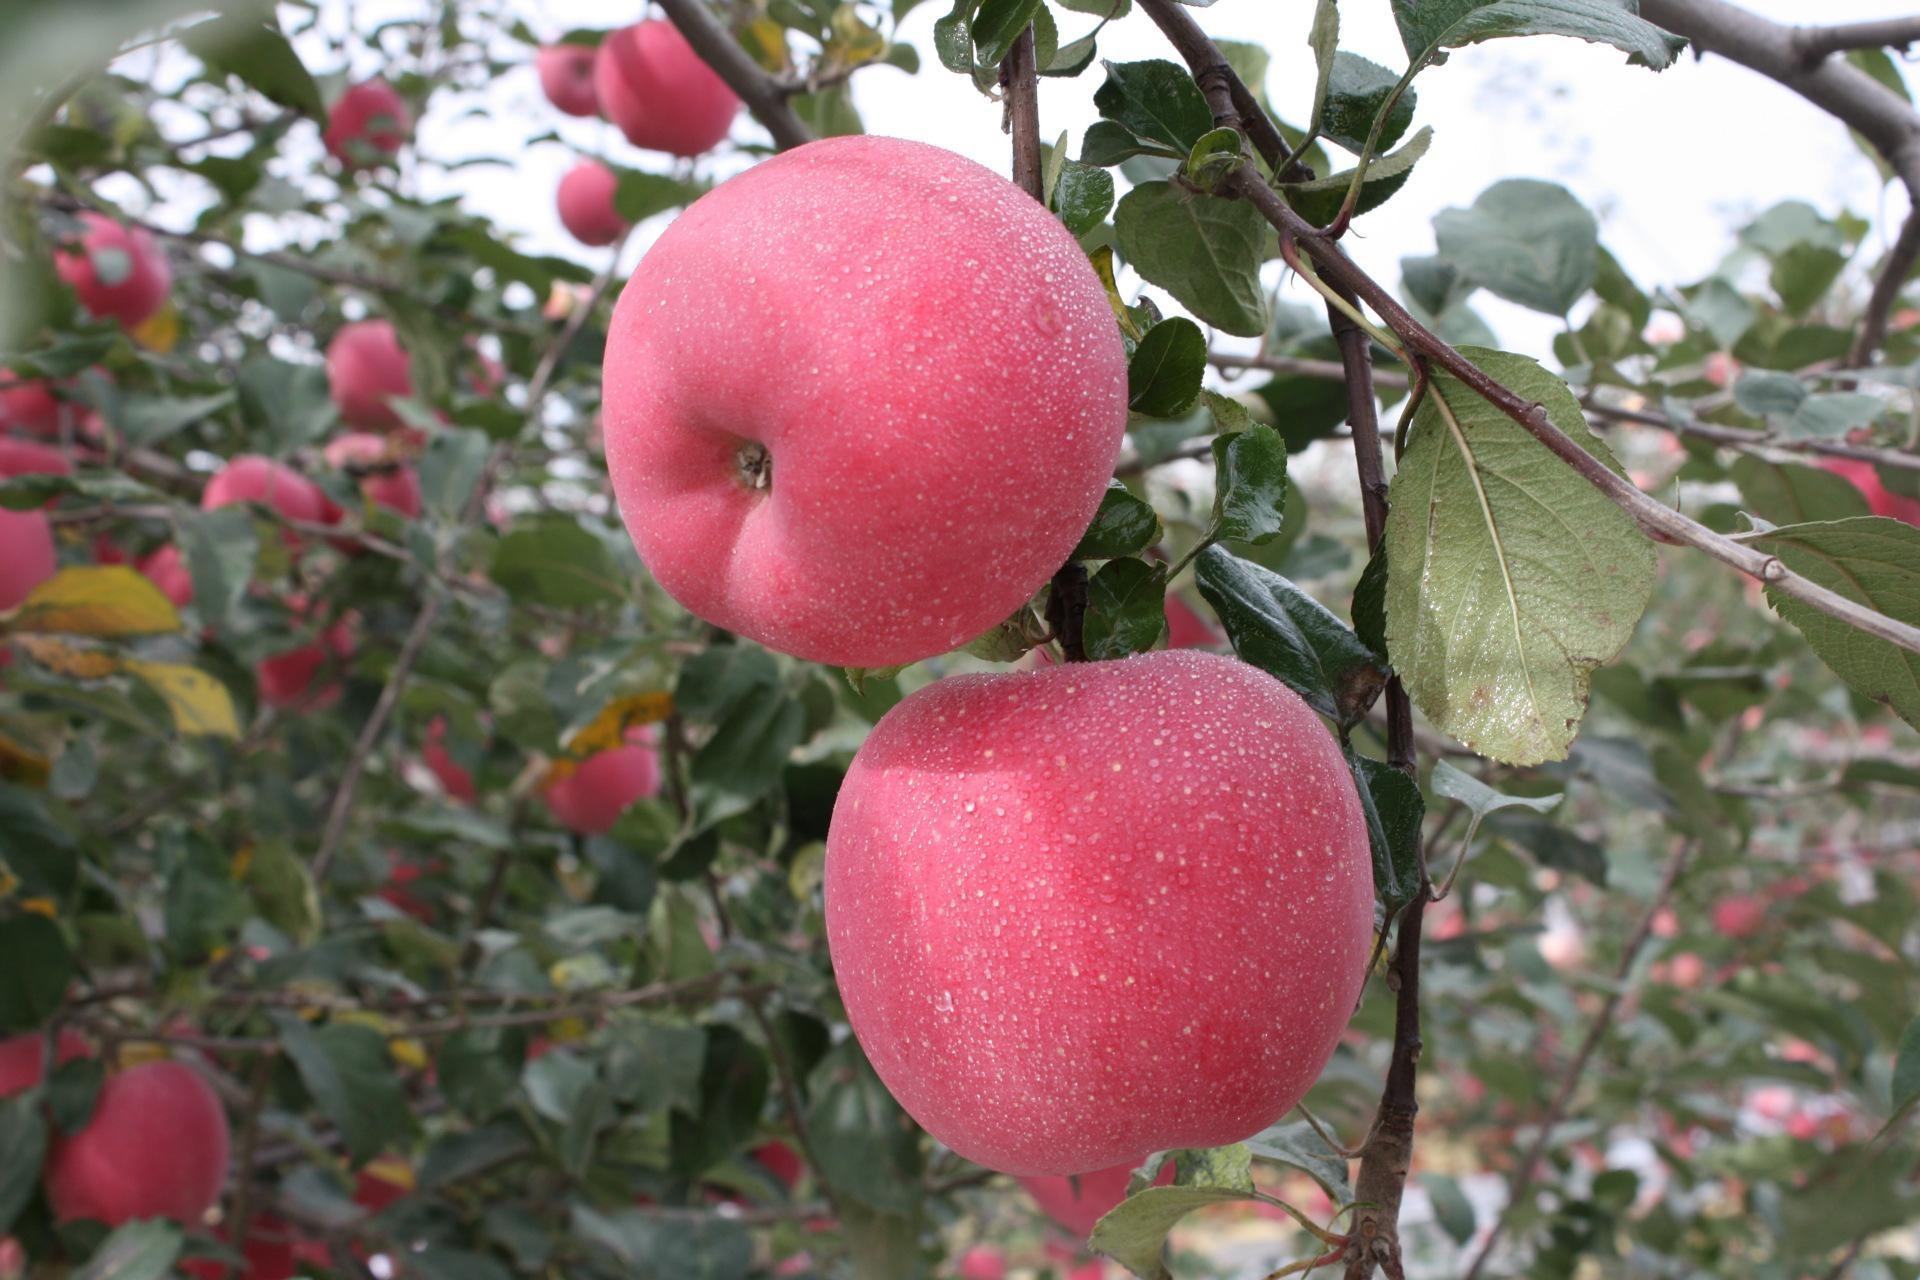apple: (819, 653, 1397, 1174), (586, 126, 1117, 669)
